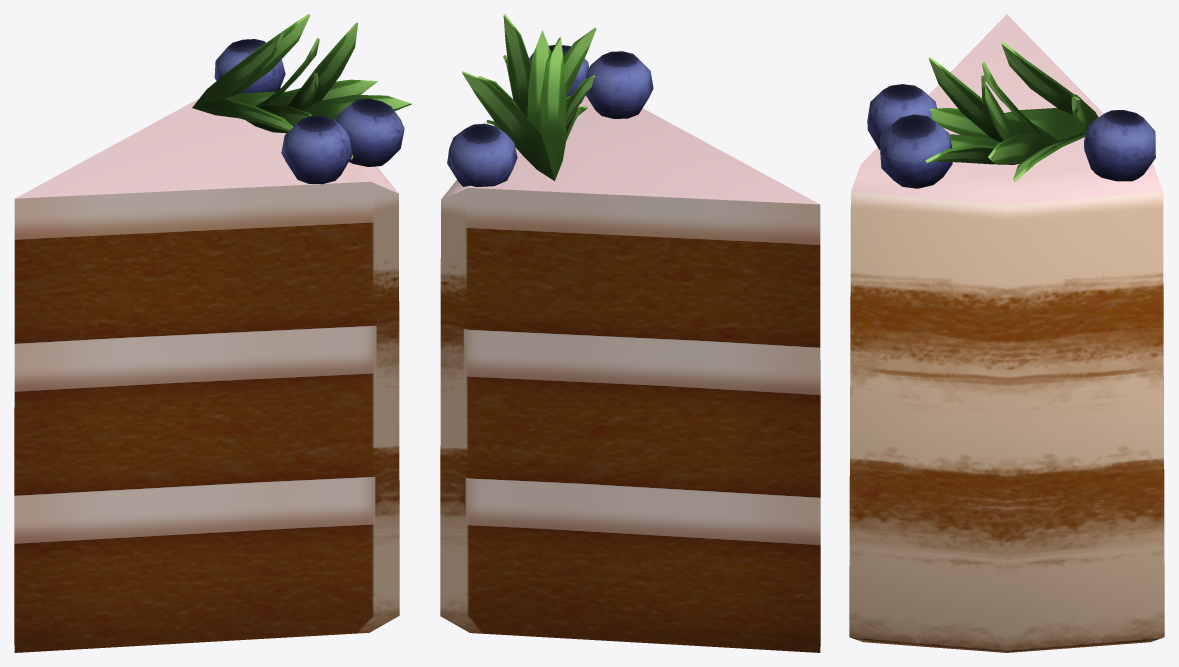
File: Wedding_04_Slice_Bottom.fbx
The picture shows the model from 3 angles, left to right: view 1: azimuth 30°, elevation 25°; view 2: azimuth 150°, elevation 25°; view 3: azimuth 270°, elevation 25°; orthographic projection. The views are drawn at different scales.
Visible parts, largest first — view 1: Wedding_04_Slice_Bottom; view 2: Wedding_04_Slice_Bottom; view 3: Wedding_04_Slice_Bottom.
Part boxes in pixels (<box>): Wedding_04_Slice_Bottom: <box>14,14,411,652</box>; Wedding_04_Slice_Bottom: <box>440,14,820,652</box>; Wedding_04_Slice_Bottom: <box>849,14,1164,652</box>.
Bounding box in the file's own units: 59.46 × 88.1 × 42.74.
